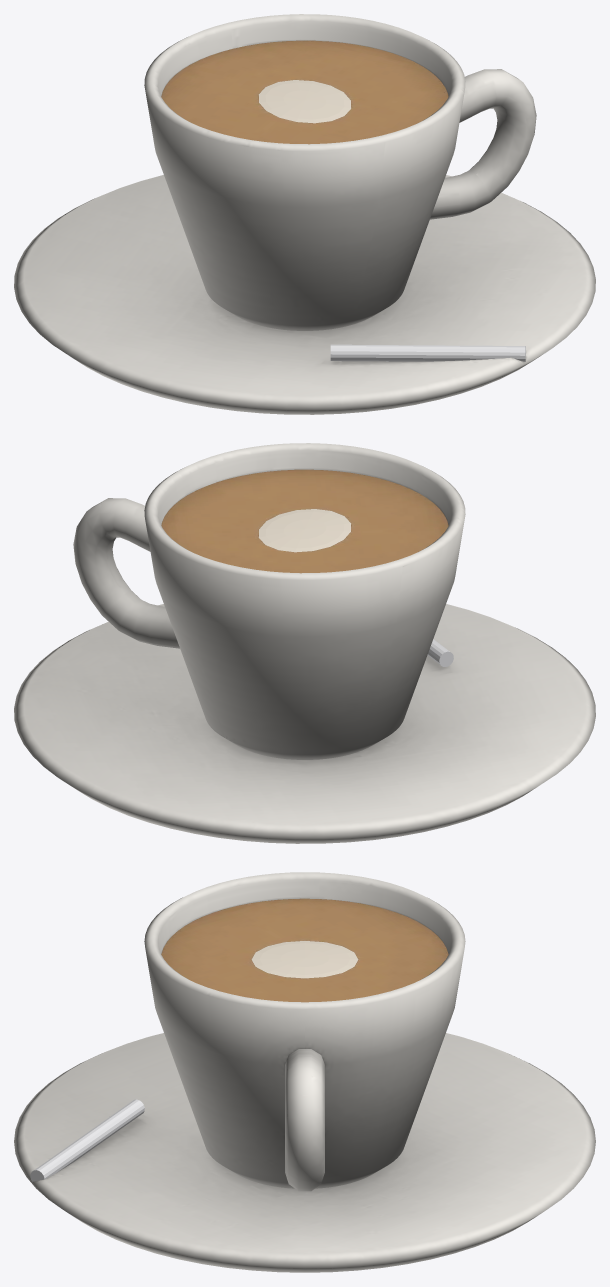
Rendered from cappuccino.glb.
3 views of the same model, one above another, from view 1: azimuth 30°, elevation 25°; view 2: azimuth 150°, elevation 25°; view 3: azimuth 270°, elevation 25° (orthographic).
Visible parts, largest first — view 1: ceramic_primary, crema, chrome, milk_foam; view 2: ceramic_primary, crema, milk_foam; view 3: ceramic_primary, crema, milk_foam, chrome.
Part boxes in pixels (<box>): ceramic_primary: <box>14,14,595,414</box>; crema: <box>161,40,448,144</box>; chrome: <box>330,344,525,361</box>; milk_foam: <box>258,80,351,123</box>; ceramic_primary: <box>14,443,595,843</box>; crema: <box>161,469,448,573</box>; milk_foam: <box>258,509,351,552</box>; ceramic_primary: <box>14,872,595,1272</box>; crema: <box>161,898,448,1002</box>; milk_foam: <box>251,941,358,978</box>; chrome: <box>30,1099,144,1181</box>.
Bounding box in the file's own units: 0.174 × 0.0814 × 0.174.
Materials: 4 (2 with a texture image).
